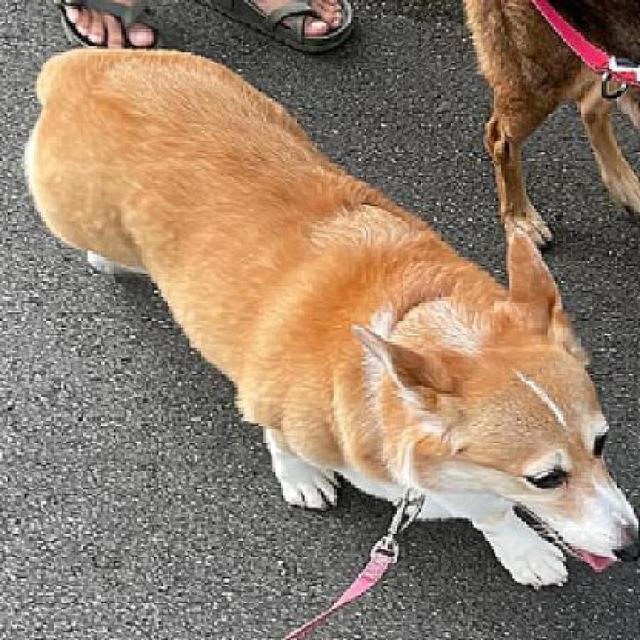Dog: (20, 41, 637, 592)
